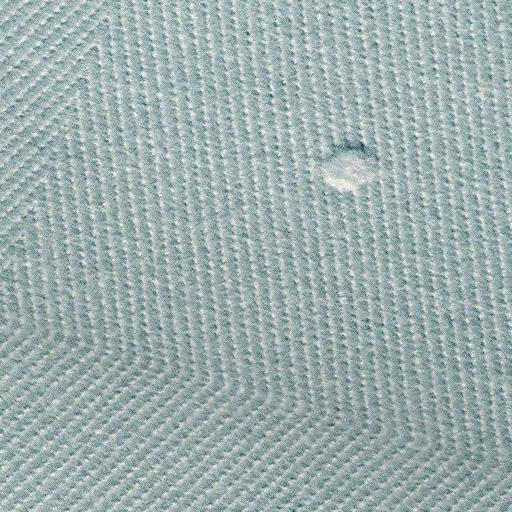knot: (312, 138, 387, 197)
